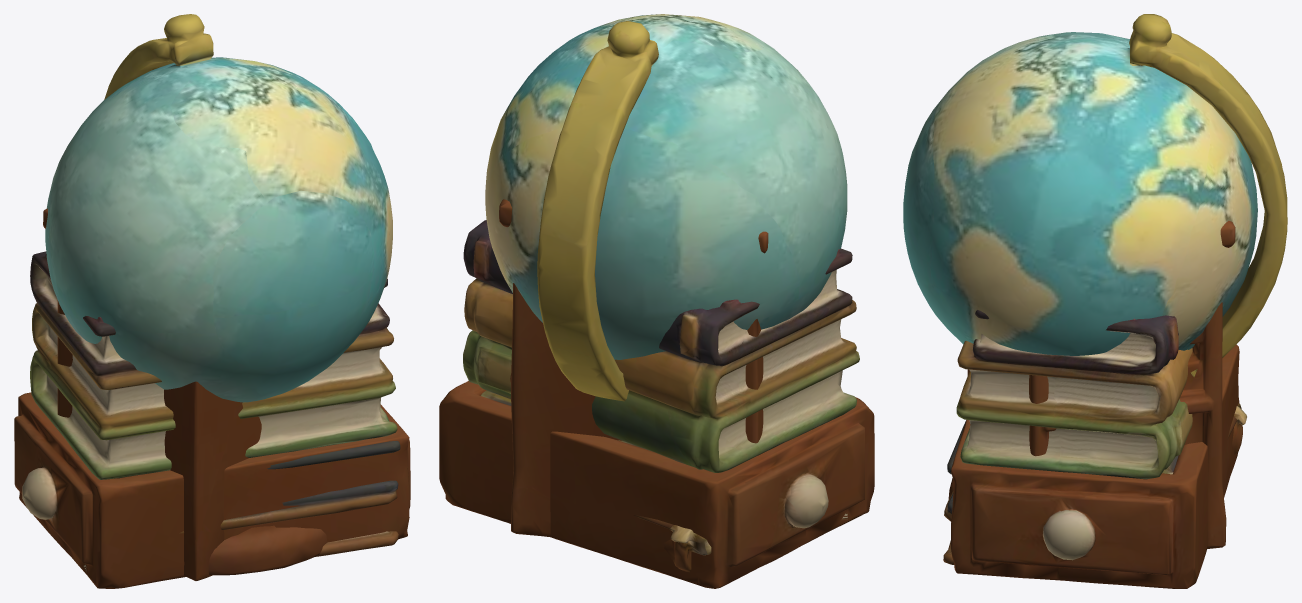
Rendered from librairie.glb.
3 renders of one model, left to right at view 1: azimuth 30°, elevation 25°; view 2: azimuth 150°, elevation 25°; view 3: azimuth 270°, elevation 25°, orthographic. The views are drawn at different scales.
Parts seen in each view (by area): view 1: globe, pile-livres, bac-fiches, fichier; view 2: globe, bac-fiches, pile-livres, fichier; view 3: globe, bac-fiches, pile-livres, fichier.
Part boxes in pixels (x1=…): globe: x1=45, y1=14, x2=392, y2=575; pile-livres: x1=30, y1=251, x2=400, y2=556; bac-fiches: x1=14, y1=392, x2=410, y2=588; fichier: x1=43, y1=208, x2=261, y2=580; globe: x1=485, y1=14, x2=847, y2=401; bac-fiches: x1=439, y1=381, x2=874, y2=588; pile-livres: x1=463, y1=220, x2=859, y2=572; fichier: x1=499, y1=199, x2=768, y2=536; globe: x1=903, y1=14, x2=1287, y2=499; bac-fiches: x1=951, y1=344, x2=1239, y2=588; pile-livres: x1=943, y1=310, x2=1246, y2=564; fichier: x1=967, y1=220, x2=1235, y2=548.
Size of the model in its own units: 0.34 by 0.4499 by 0.3177.
Materials: 2 (2 with a texture image).
